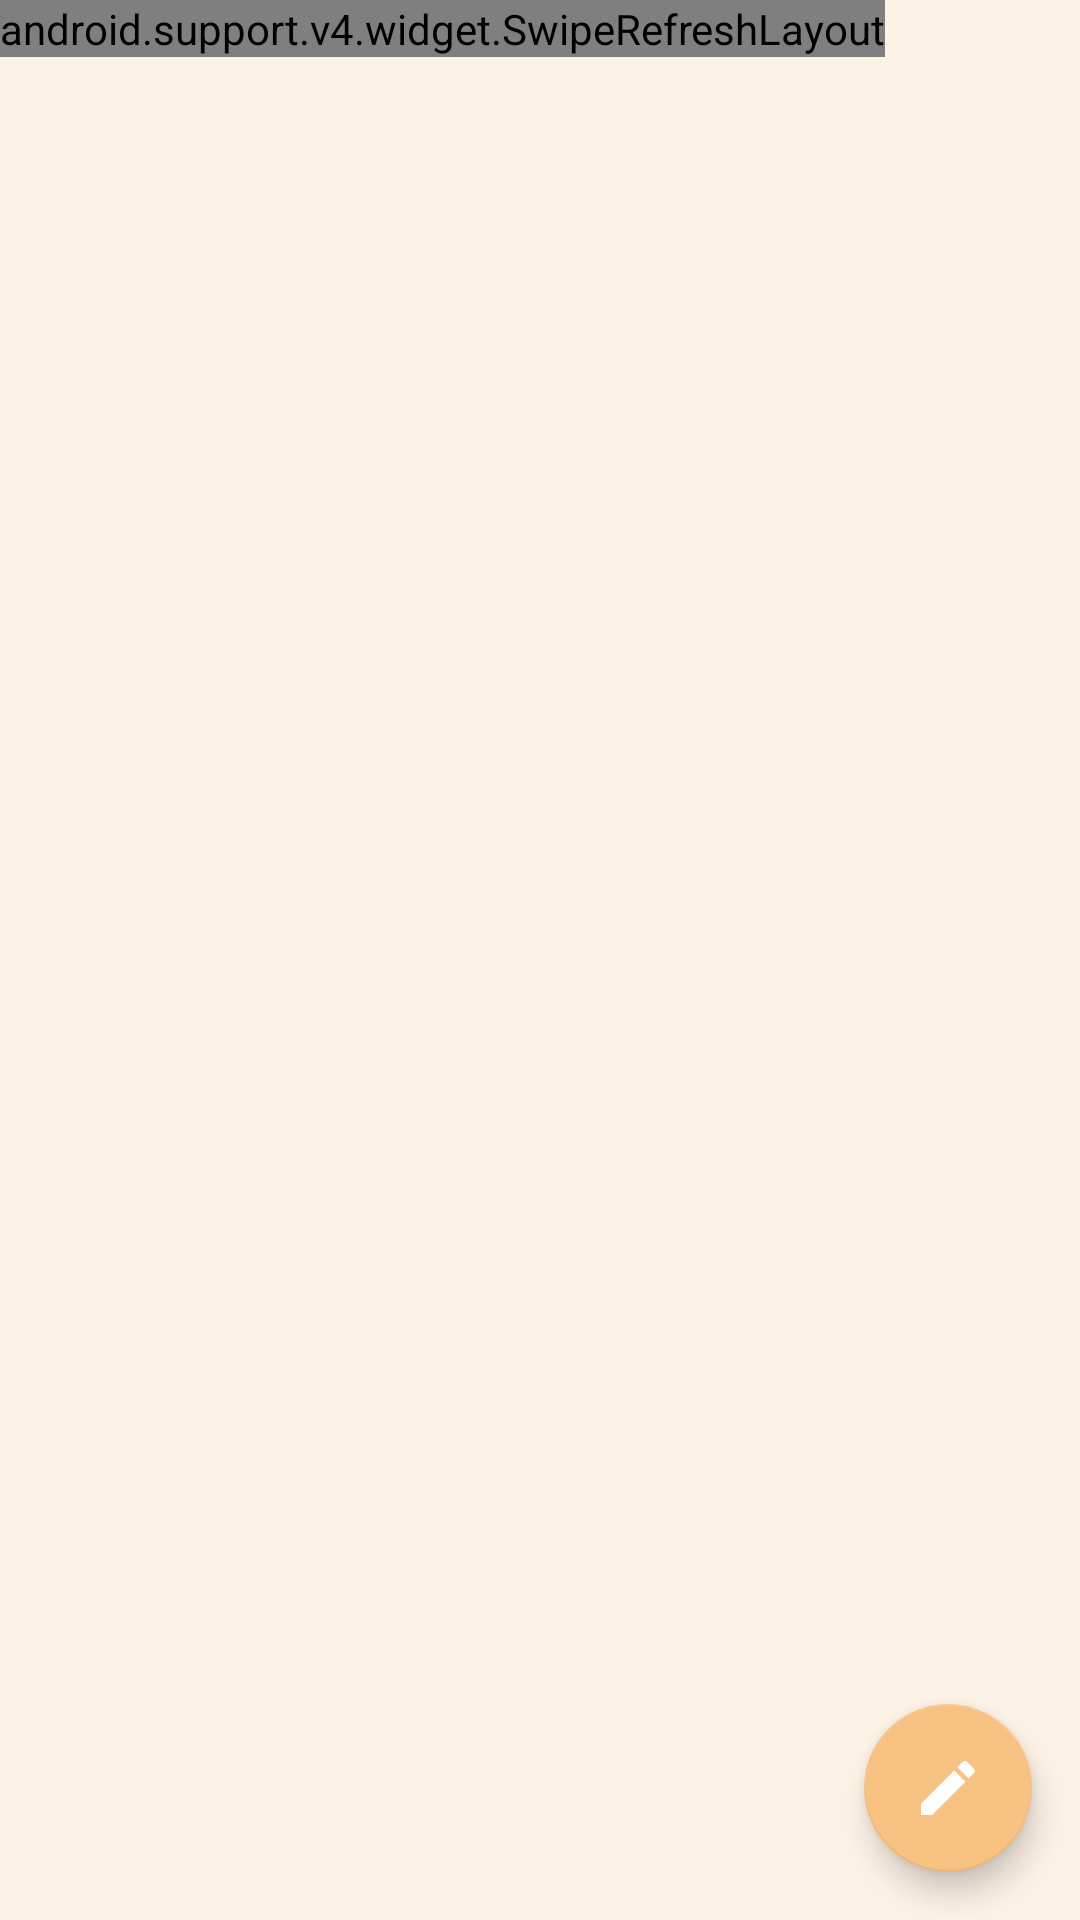

Icon click points for this 1080 x 1920 phone screenshot, format (x,y):
edit: (948,1788)
